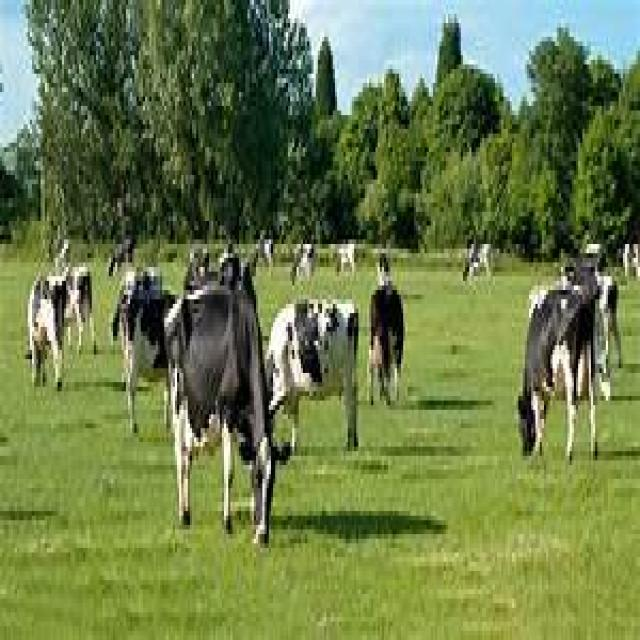cow: (164, 253, 277, 548), (516, 262, 621, 465), (267, 299, 361, 465), (26, 272, 94, 396), (369, 253, 405, 405), (459, 226, 531, 281)
